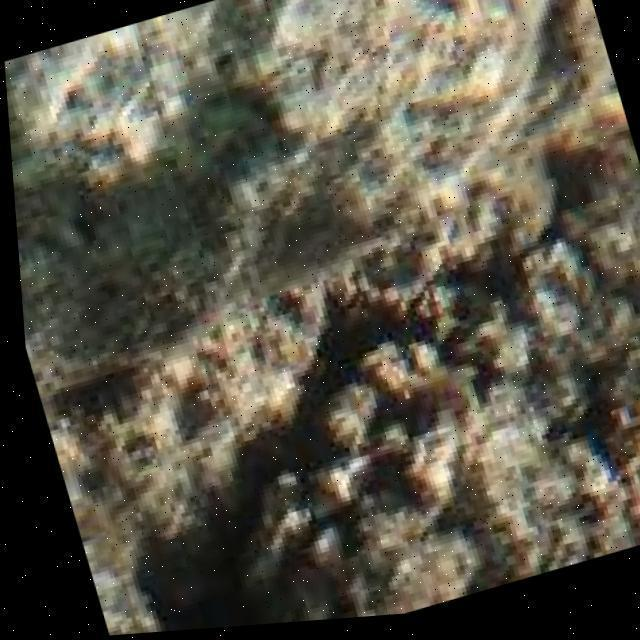Dead Coral: (253, 260, 640, 640)
